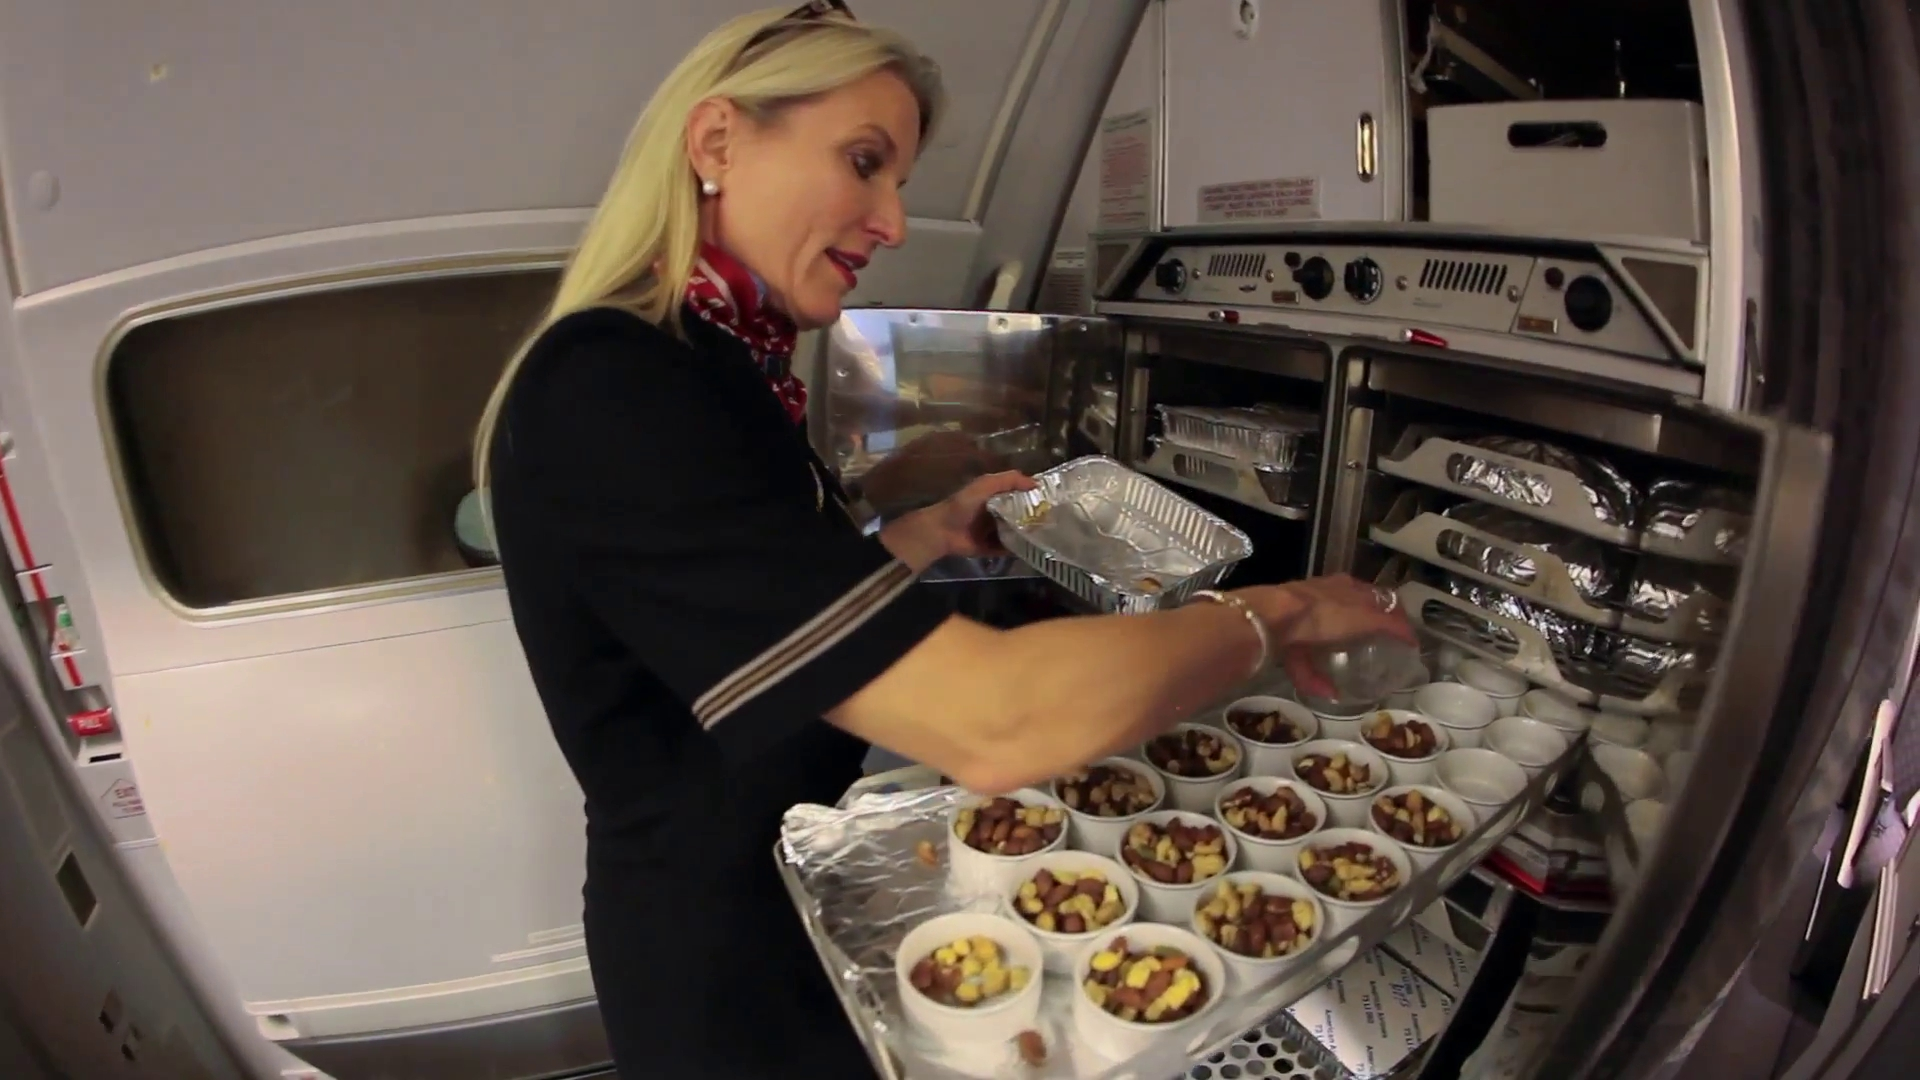person: (474, 2, 1414, 1080)
